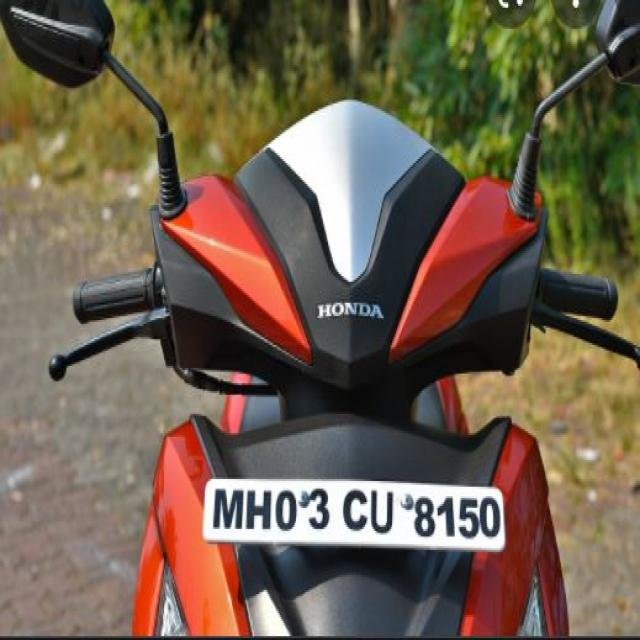number plate: (201, 475, 507, 552)
